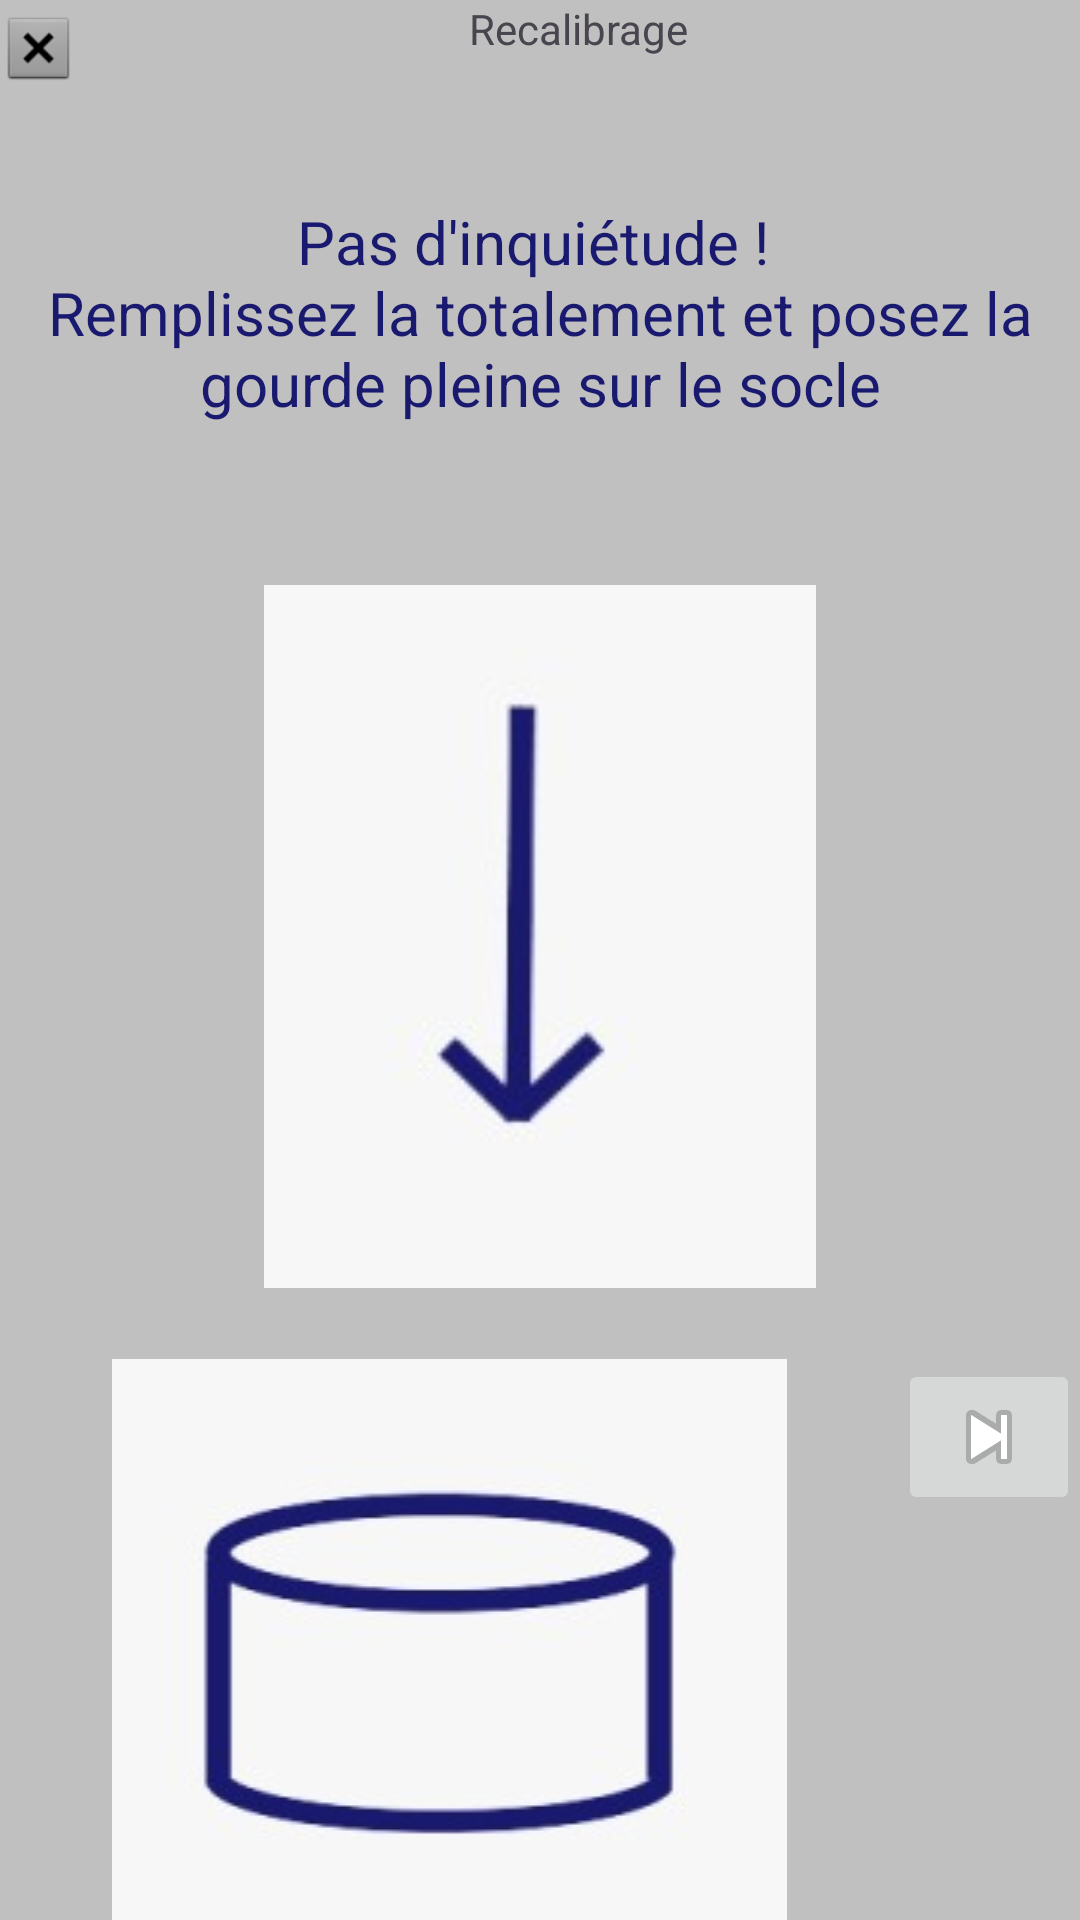

Named icons in this screenshot (1080 x 1920) and their centers, (x=x, y=y):
vers page suivante: (x=989, y=1437)
